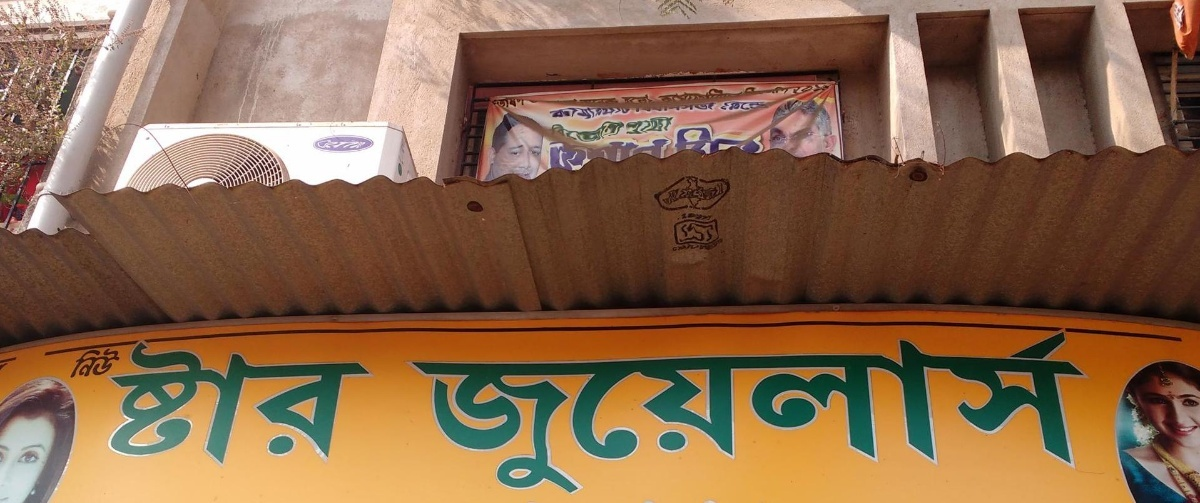text: (417, 328, 432, 502), (433, 328, 448, 502), (449, 328, 464, 502), (465, 328, 480, 502), (481, 328, 496, 502), (497, 328, 512, 502), (513, 328, 528, 502), (529, 328, 544, 502), (545, 328, 560, 502), (561, 328, 576, 502), (577, 328, 592, 502), (593, 328, 608, 502), (609, 328, 624, 502), (625, 328, 640, 502), (641, 328, 656, 502), (657, 328, 672, 502), (673, 328, 688, 502), (689, 328, 704, 502), (705, 328, 720, 502), (721, 328, 736, 502), (737, 328, 752, 502), (753, 328, 768, 502), (769, 328, 784, 502), (785, 328, 800, 502), (801, 328, 816, 502), (817, 328, 832, 502), (833, 328, 848, 502), (849, 328, 864, 502), (865, 328, 880, 502), (881, 328, 896, 502), (897, 328, 912, 502), (913, 328, 928, 502), (929, 328, 944, 502), (945, 328, 960, 502), (961, 328, 976, 502), (977, 328, 992, 502), (993, 328, 1008, 502), (1009, 328, 1024, 502), (1025, 328, 1040, 502), (1041, 328, 1056, 502), (1057, 328, 1072, 502), (1073, 328, 1088, 502), (129, 331, 144, 473), (145, 331, 160, 473), (161, 331, 176, 473), (177, 331, 192, 473), (193, 331, 208, 473), (209, 331, 224, 473), (225, 331, 240, 473), (241, 331, 256, 473), (257, 331, 272, 473), (273, 331, 288, 473), (289, 331, 304, 473), (305, 331, 320, 473), (321, 331, 336, 473), (337, 331, 352, 473), (353, 331, 368, 473), (405, 328, 416, 502), (1089, 328, 1099, 502), (497, 80, 512, 171), (513, 80, 528, 171), (529, 80, 544, 171), (545, 80, 560, 171), (561, 80, 576, 171), (577, 80, 592, 171), (593, 80, 608, 171), (609, 80, 624, 171), (625, 80, 640, 171), (641, 80, 656, 171), (657, 80, 672, 171), (673, 80, 688, 171), (689, 80, 704, 171), (705, 80, 720, 171), (721, 80, 736, 171), (737, 80, 752, 171), (753, 80, 768, 171), (769, 80, 784, 171), (785, 80, 800, 171), (801, 80, 816, 171), (817, 80, 832, 171), (657, 179, 672, 258), (673, 179, 688, 258), (689, 179, 704, 258), (705, 179, 720, 258), (369, 331, 377, 473), (721, 179, 730, 258), (490, 80, 496, 171), (81, 345, 96, 380), (97, 345, 112, 380), (113, 345, 127, 380), (321, 131, 336, 154), (337, 131, 352, 154), (353, 131, 368, 154), (126, 331, 128, 473), (369, 131, 378, 154), (315, 131, 320, 154), (79, 345, 80, 380)
